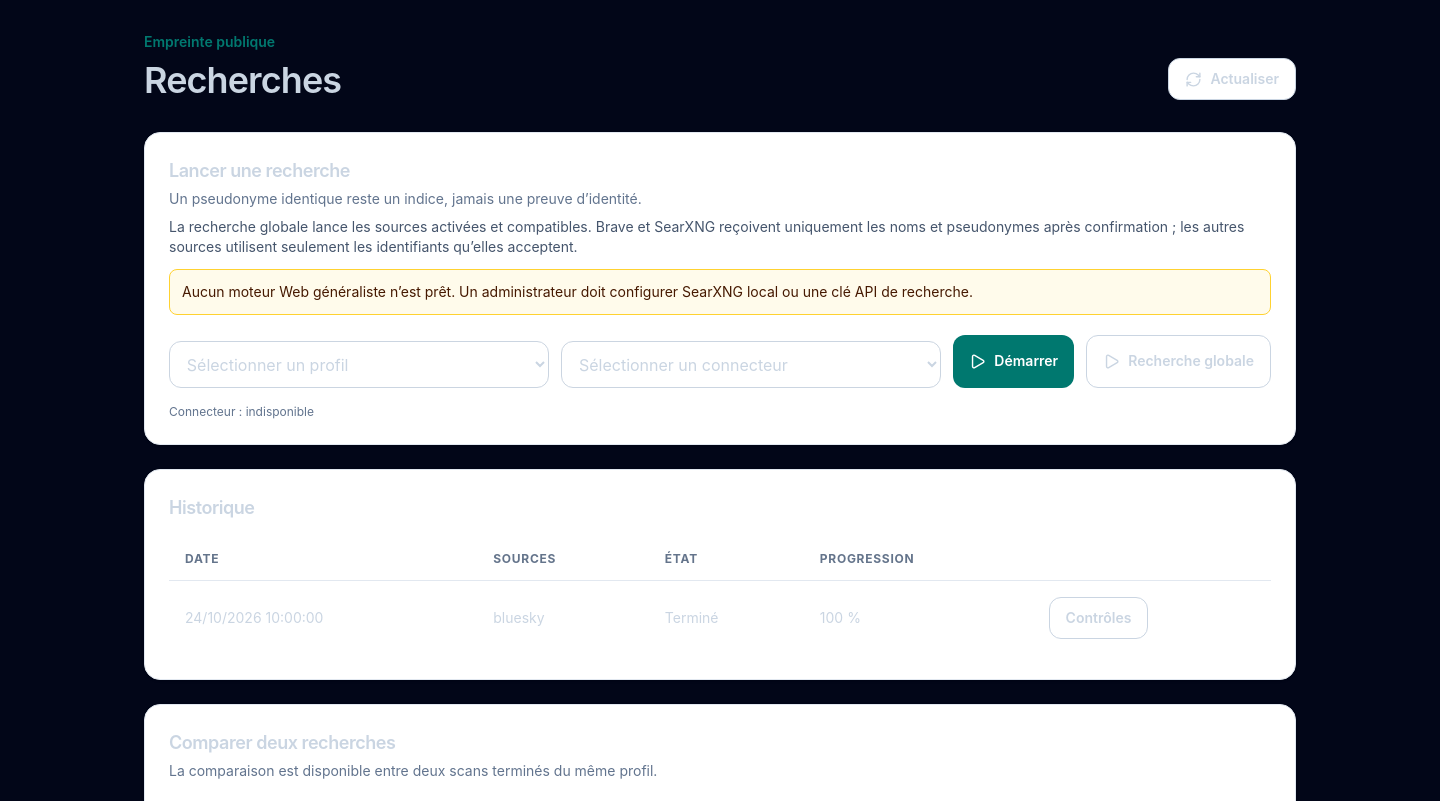
affiche les contrôles de plateformes sans interpréter un résultat négatif
This screenshot has width=1440, height=801.
What coordinates should you click on to do the following:
click the button "Contrôles"
I would click on:
 (1098, 618)
Its box is [1049,597,1148,639].
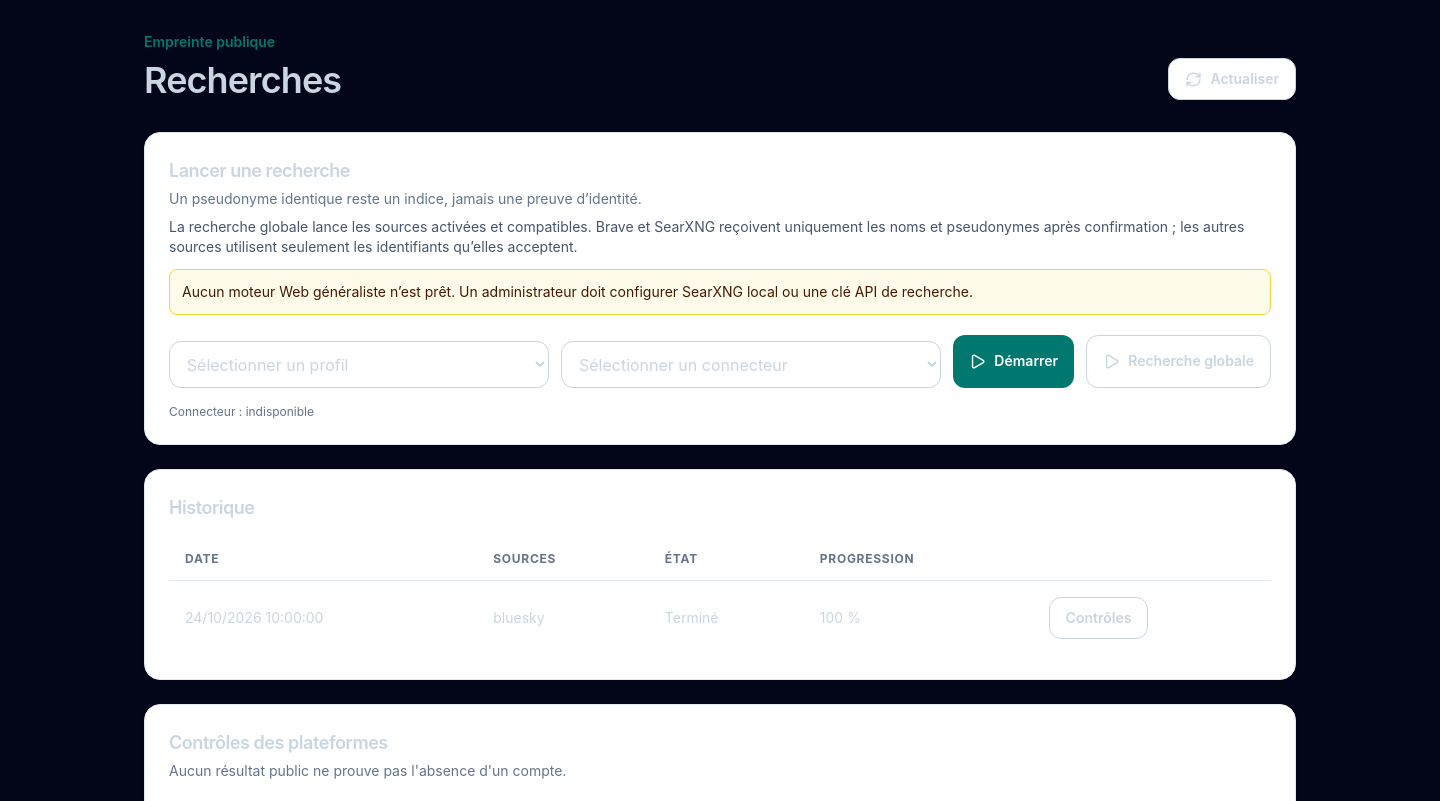
Check: the heading "Contrôles des plateformes" is shown, box [169,732,388,753]
Check: the text "Aucun résultat public ne prouve pas l'absence d'un compte." is shown, box [169,762,566,779]
